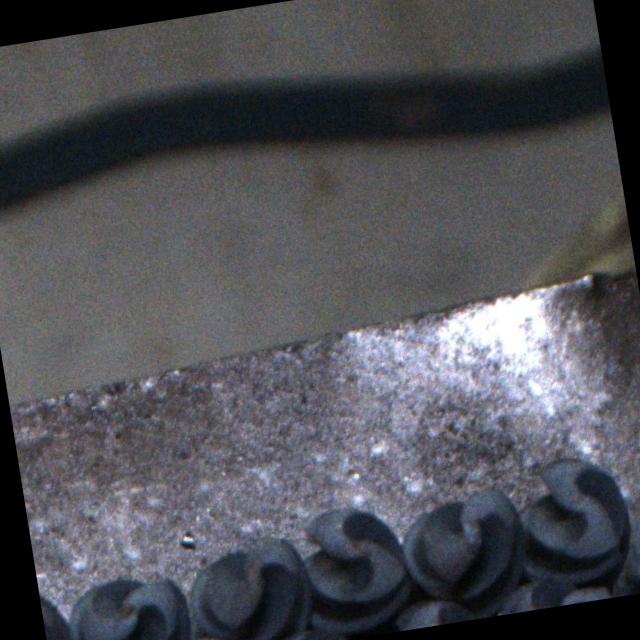tool_b: (392, 484, 530, 628), (506, 446, 640, 593), (295, 500, 420, 640), (177, 531, 317, 640), (62, 569, 197, 640), (468, 568, 614, 620), (357, 594, 480, 638), (38, 581, 79, 640), (136, 631, 255, 640)
